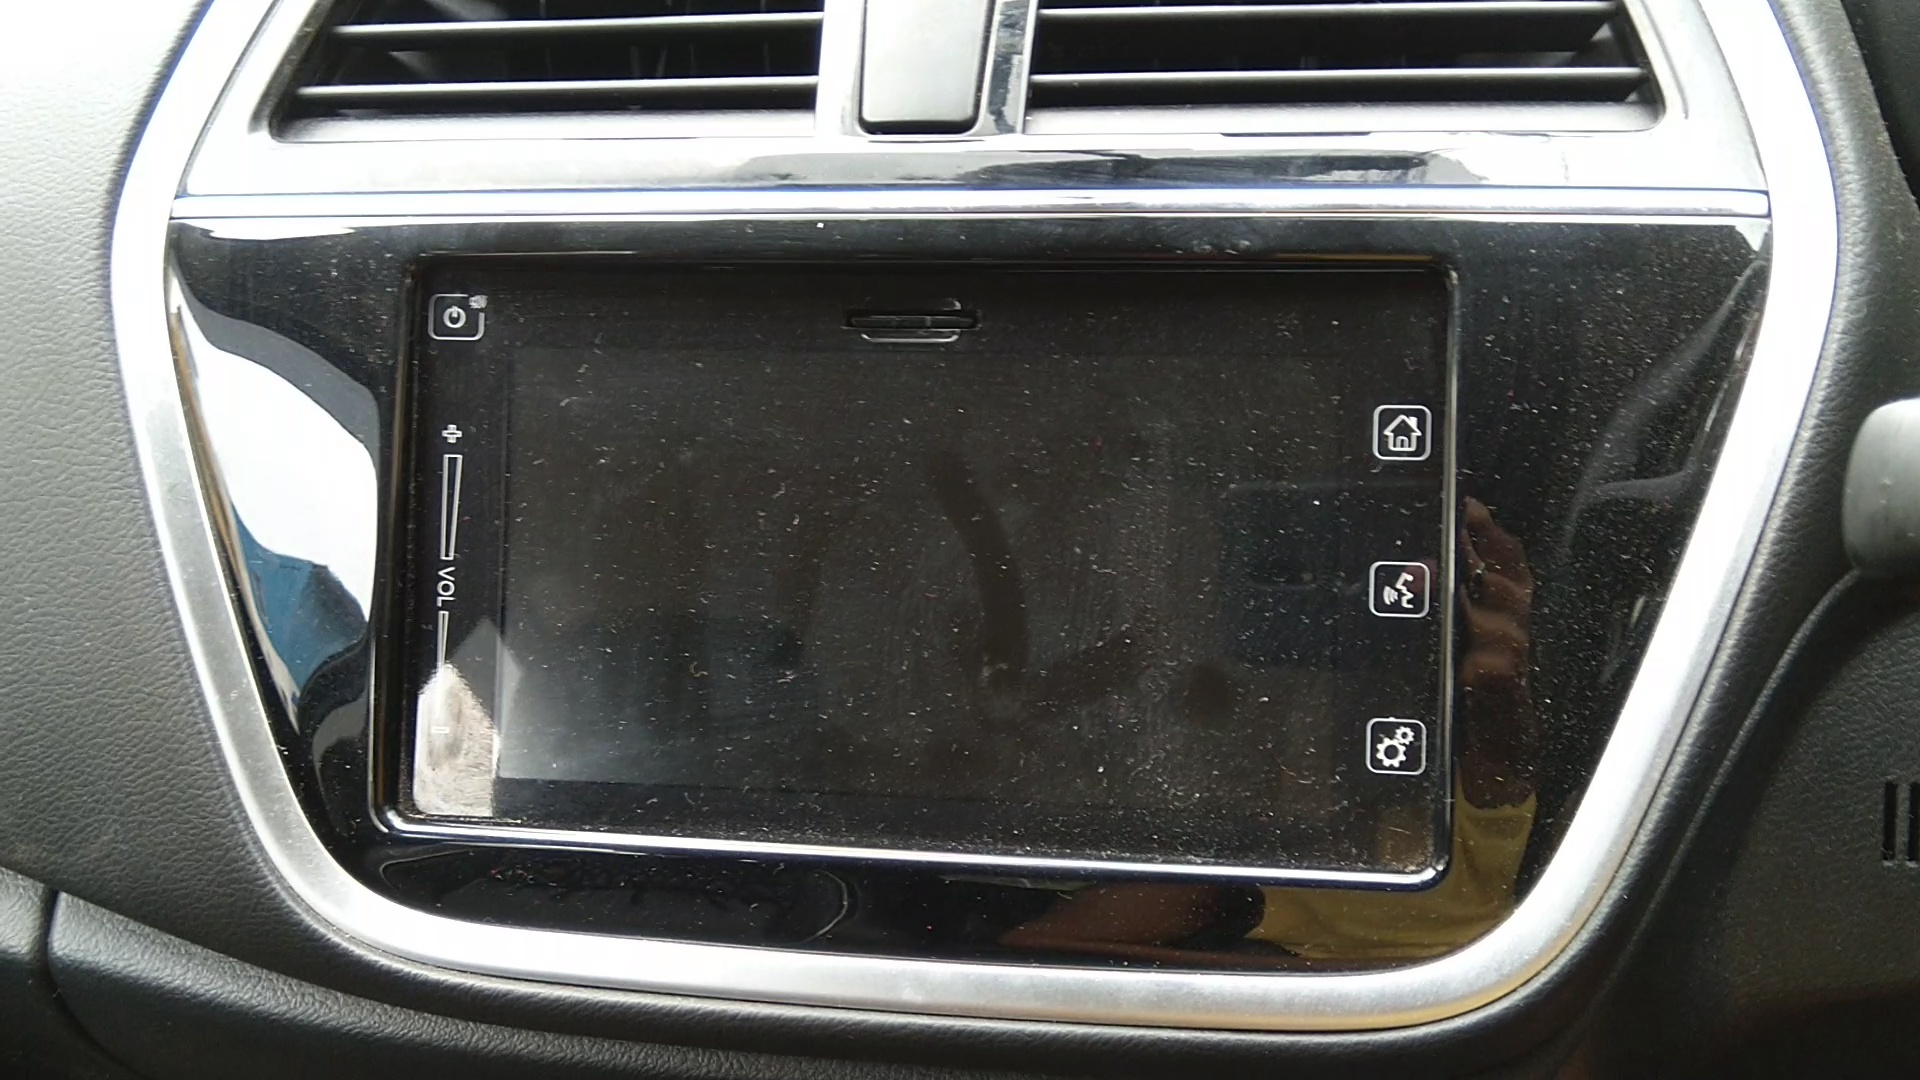touch_infotainment: (342, 225, 1501, 955)
